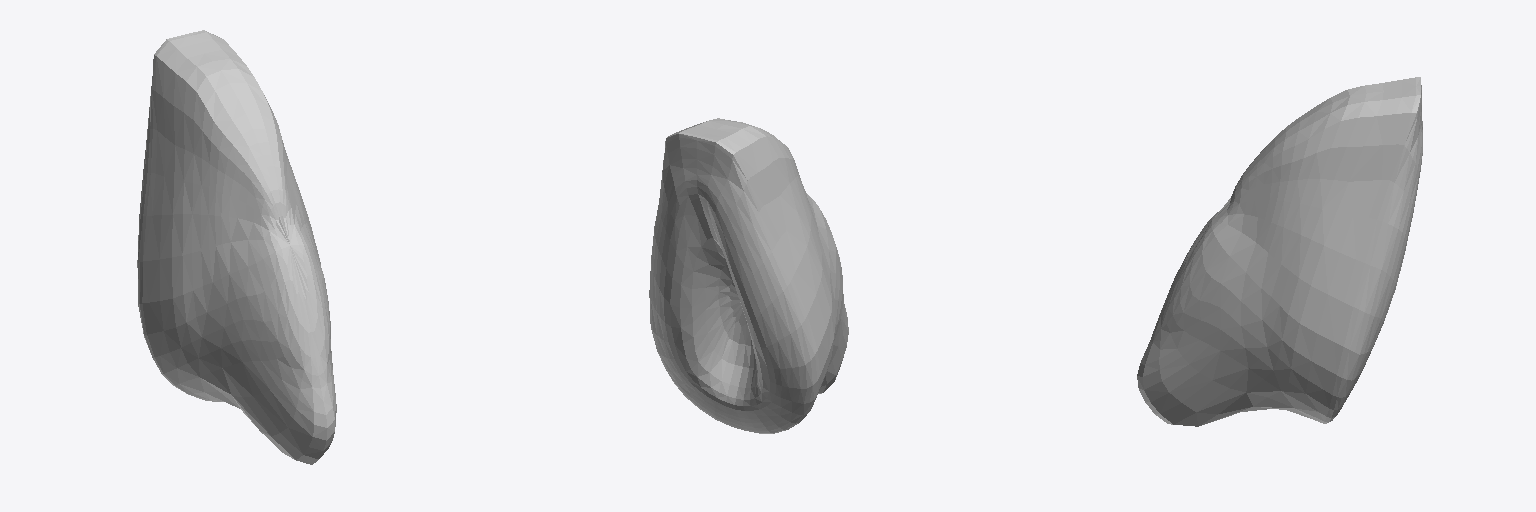
Rendered from VagBase.obj.
3 renders of one model, left to right at view 1: azimuth 30°, elevation 25°; view 2: azimuth 150°, elevation 25°; view 3: azimuth 270°, elevation 25°, orthographic.
Parts seen in each view (by area): view 1: vag_base_Mesh1_Component_4_1_Component_6_1_Model.001; view 2: vag_base_Mesh1_Component_4_1_Component_6_1_Model.001; view 3: vag_base_Mesh1_Component_4_1_Component_6_1_Model.001.
Boxes of the visible parts, <box> form: vag_base_Mesh1_Component_4_1_Component_6_1_Model.001: <box>137,30,336,464</box>; vag_base_Mesh1_Component_4_1_Component_6_1_Model.001: <box>649,118,848,433</box>; vag_base_Mesh1_Component_4_1_Component_6_1_Model.001: <box>1137,77,1422,426</box>.
Size of the model in its own units: 6.14 by 12.21 by 9.31.